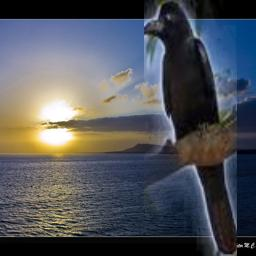Crow: (144, 0, 237, 256)
